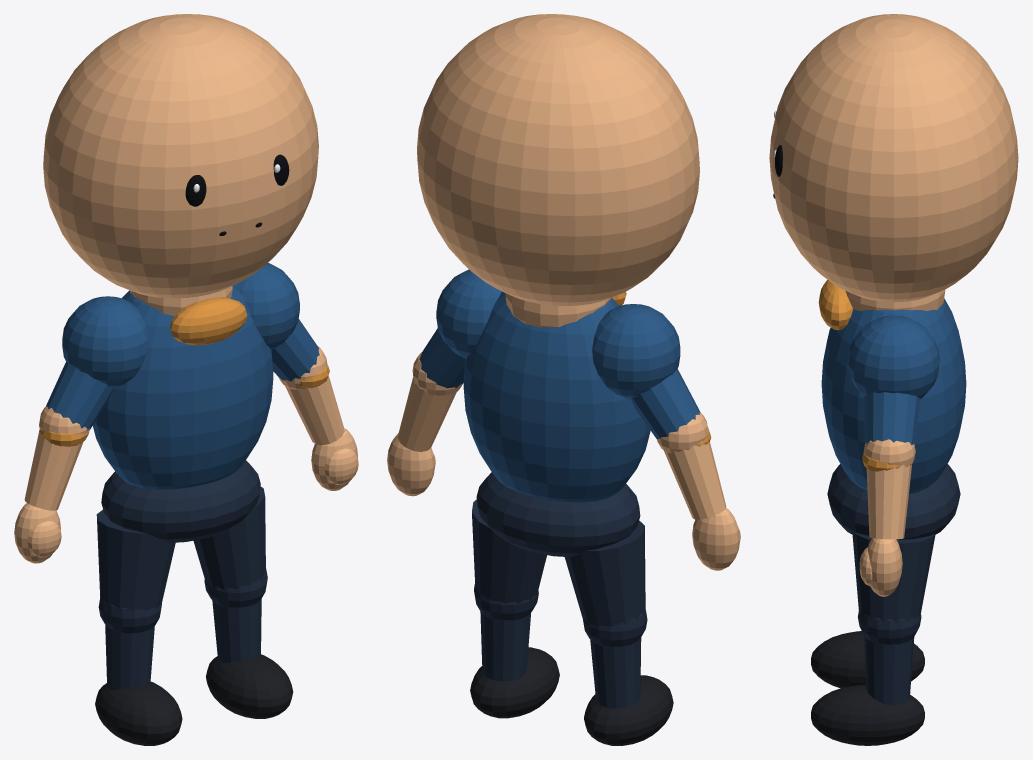
File: ChibiStickBase.obj
The picture shows the model from 3 angles, left to right: view 1: azimuth 30°, elevation 25°; view 2: azimuth 150°, elevation 25°; view 3: azimuth 270°, elevation 25°; orthographic projection. The views are drawn at different scales.
Visible parts, largest first — view 1: Head, Body_Tunic, Thigh, Shoulder, Shoe, Waist, Lower_Leg, Forearm, Upper_Arm, Collar, Knee, Hand (+4 smaller); view 2: Head, Body_Tunic, Shoulder, Thigh, Waist, Shoe, Lower_Leg, Forearm, Upper_Arm, Hand, Knee, Elbow (+1 smaller); view 3: Head, Body_Tunic, Shoe, Shoulder, Waist, Thigh, Forearm, Lower_Leg, Upper_Arm, Hand, Knee, Collar (+2 smaller).
Boxes of the visible parts, left/top/right/bottom form: Head: left=43, top=14, right=318, bottom=298; Body_Tunic: left=92, top=284, right=273, bottom=489; Thigh: left=96, top=487, right=265, bottom=610; Shoulder: left=62, top=263, right=299, bottom=387; Shoe: left=95, top=654, right=293, bottom=745; Waist: left=101, top=460, right=260, bottom=542; Lower_Leg: left=105, top=599, right=261, bottom=689; Forearm: left=24, top=375, right=344, bottom=510; Upper_Arm: left=46, top=319, right=319, bottom=430; Collar: left=170, top=297, right=247, bottom=345; Knee: left=98, top=569, right=267, bottom=633; Hand: left=14, top=428, right=357, bottom=563; Head: left=417, top=14, right=699, bottom=305; Body_Tunic: left=463, top=291, right=650, bottom=502; Shoulder: left=436, top=269, right=680, bottom=398; Thigh: left=472, top=499, right=645, bottom=626; Waist: left=476, top=472, right=640, bottom=556; Shoe: left=470, top=647, right=673, bottom=745; Lower_Leg: left=480, top=612, right=641, bottom=708; Forearm: left=397, top=377, right=726, bottom=519; Upper_Arm: left=419, top=328, right=700, bottom=438; Hand: left=387, top=433, right=740, bottom=570; Knee: left=474, top=584, right=647, bottom=647; Elbow: left=412, top=352, right=708, bottom=453; Head: left=769, top=14, right=1018, bottom=302; Body_Tunic: left=821, top=298, right=966, bottom=494; Shoe: left=811, top=631, right=924, bottom=745; Shoulder: left=848, top=315, right=939, bottom=398; Waist: left=827, top=464, right=960, bottom=539; Thigh: left=852, top=532, right=935, bottom=622; Forearm: left=866, top=464, right=911, bottom=539; Lower_Leg: left=864, top=636, right=914, bottom=705; Upper_Arm: left=864, top=392, right=920, bottom=446; Hand: left=867, top=538, right=902, bottom=596; Knee: left=858, top=610, right=921, bottom=644; Collar: left=818, top=280, right=852, bottom=330.
Size of the model in its own units: 1.35 by 2.62 by 0.86.
